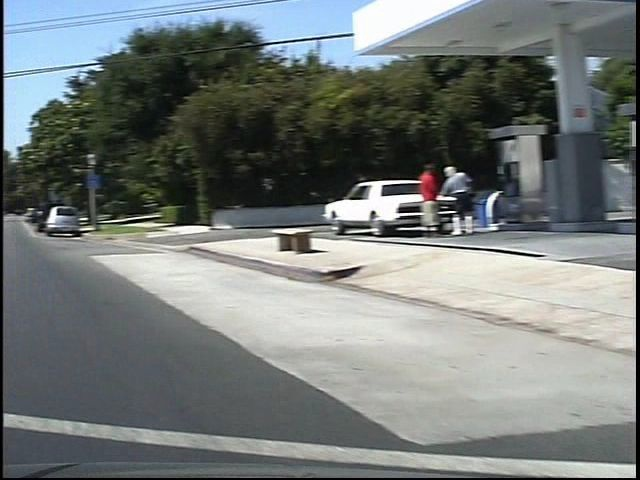person: (422, 163, 463, 242), (395, 158, 426, 242)
